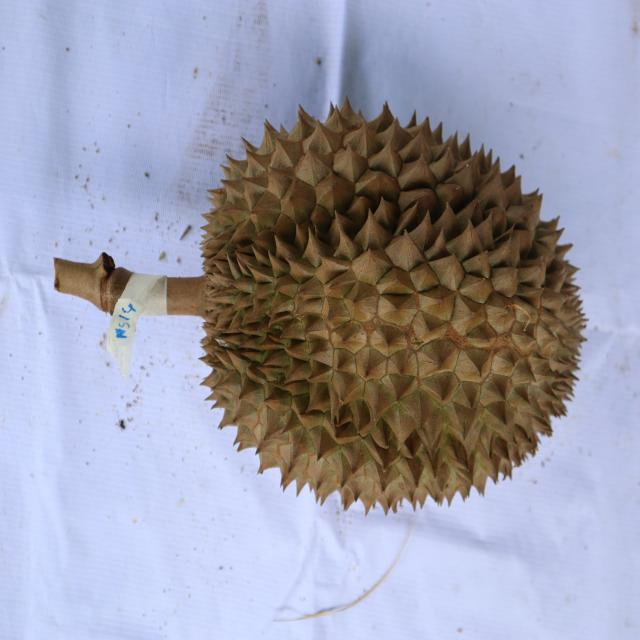mature: (196, 95, 591, 515)
